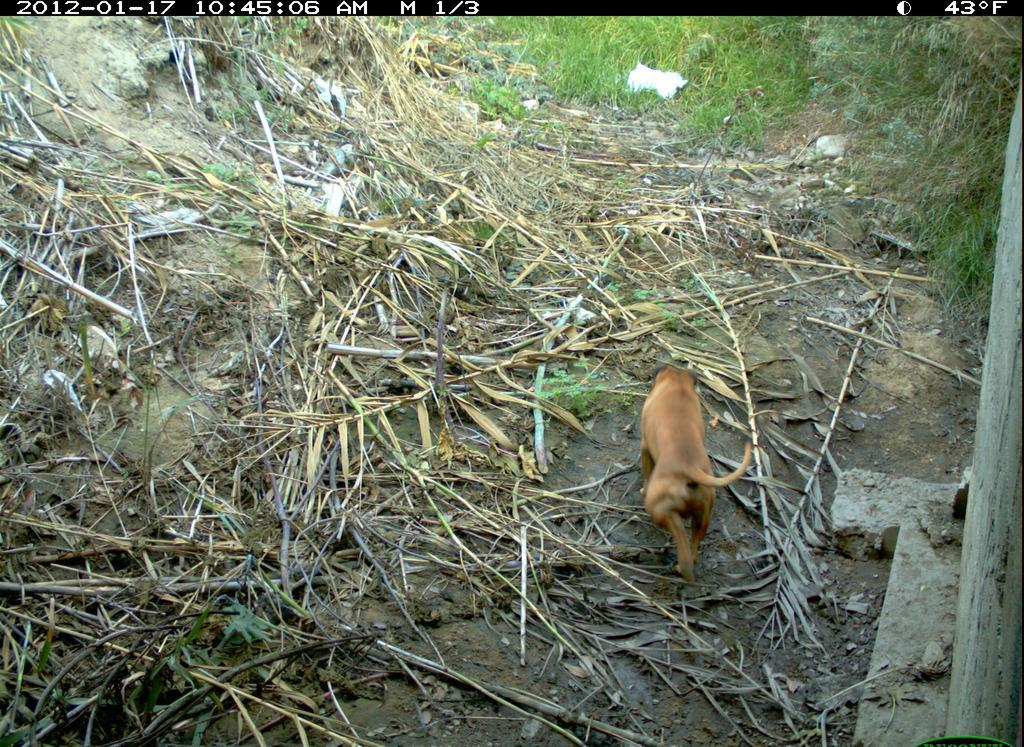dog: (632, 356, 761, 591)
